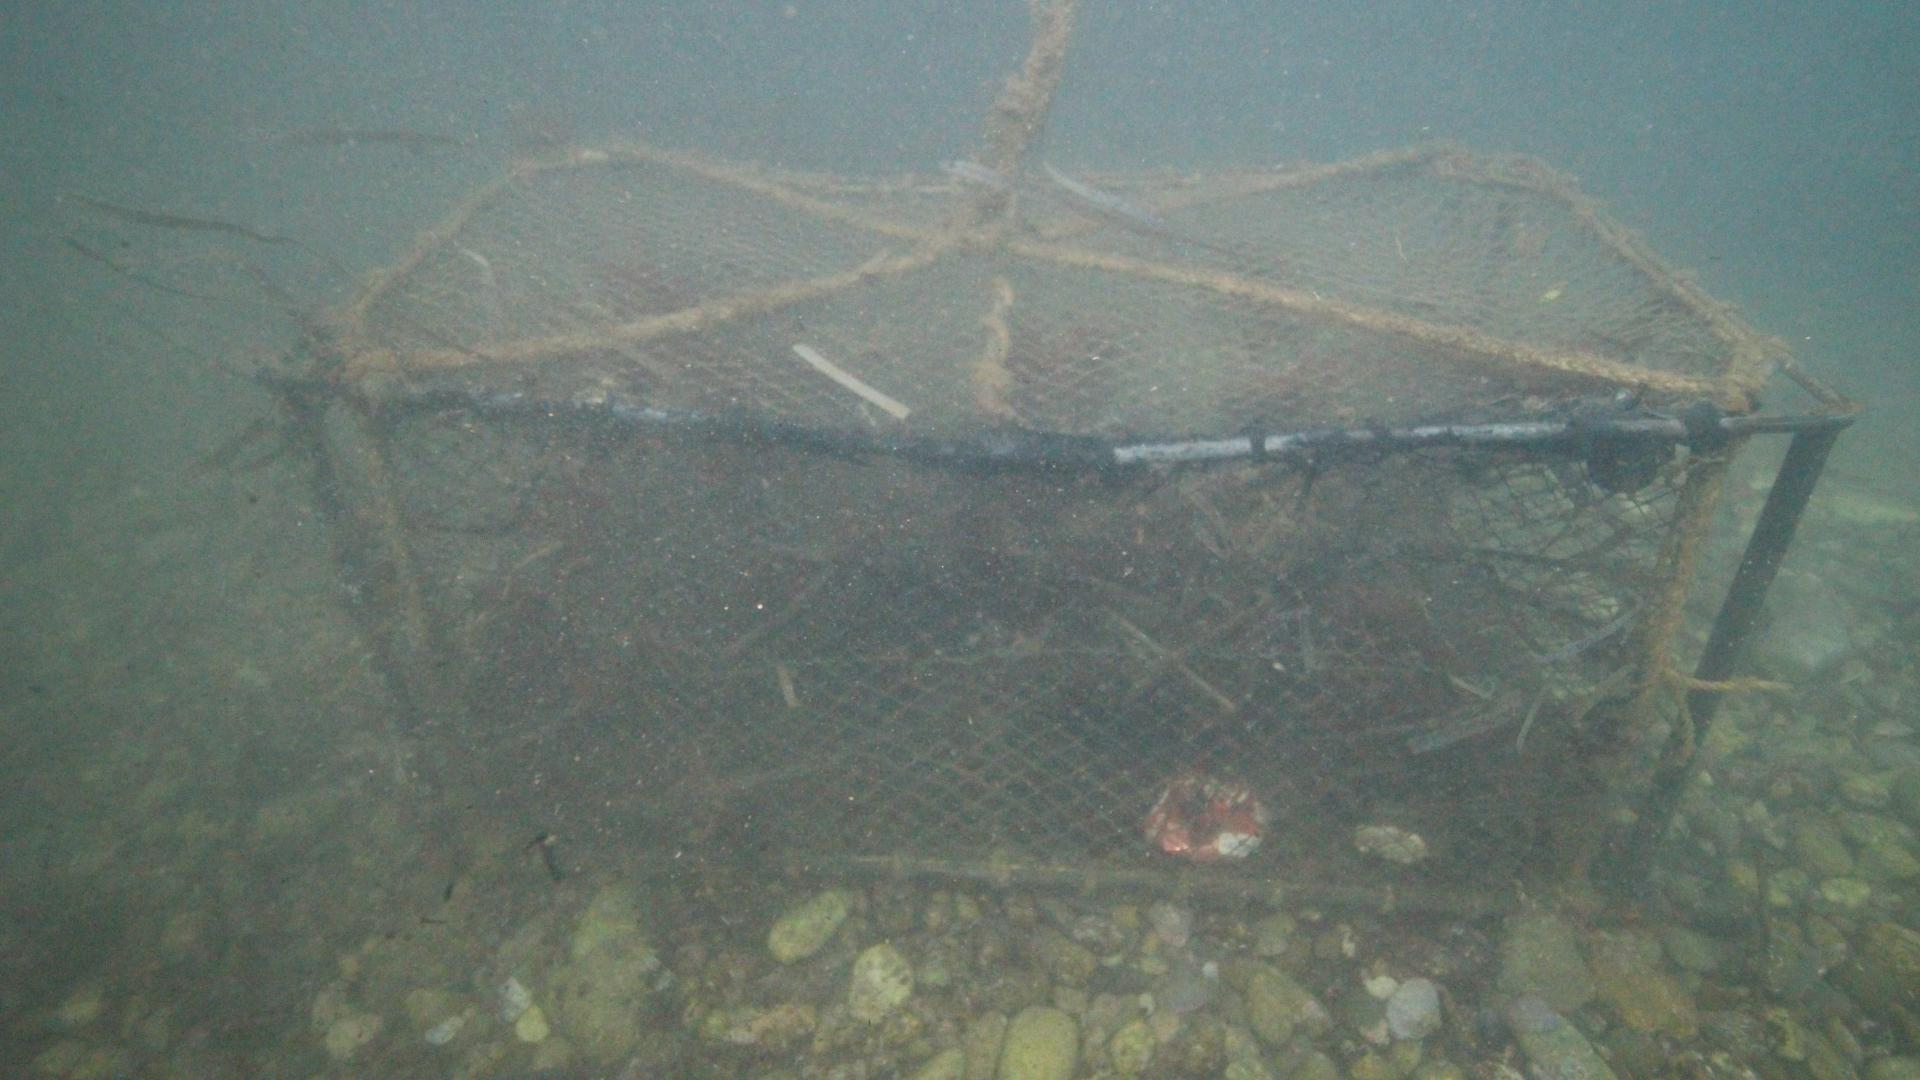rectangular fish trap: (255, 138, 1865, 938)
